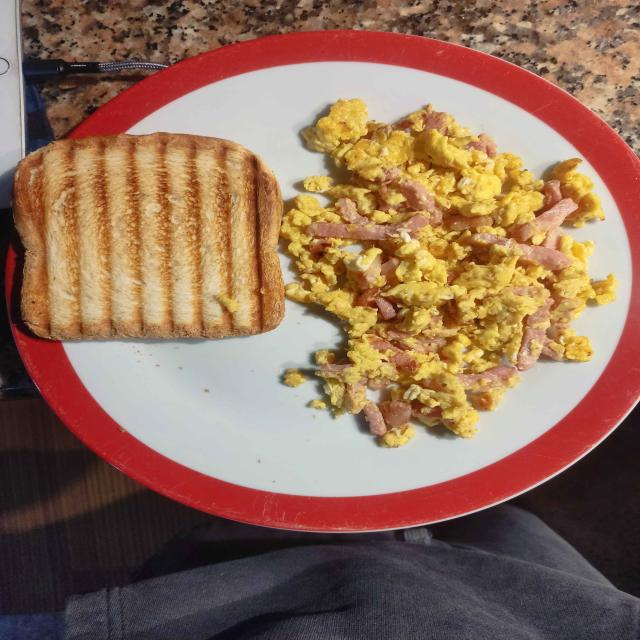plate: (12, 31, 640, 532)
scrambled eggs with bacon: (281, 99, 618, 447)
toasted bread: (14, 133, 284, 340)
